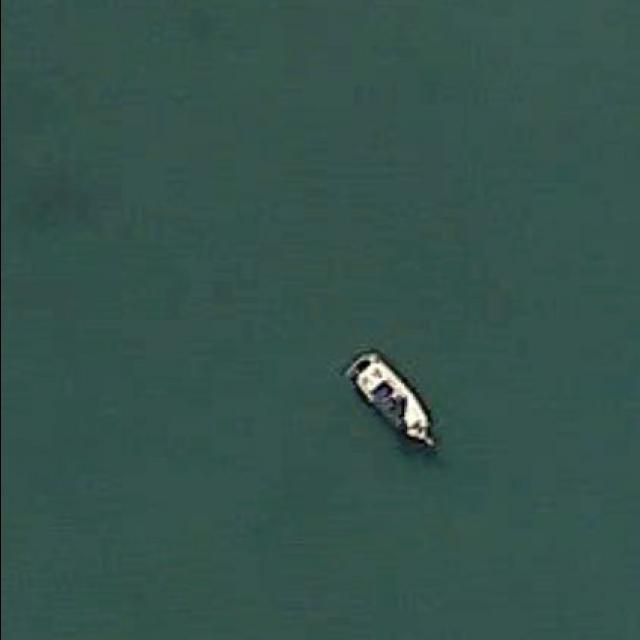ship: (343, 352, 439, 456)
